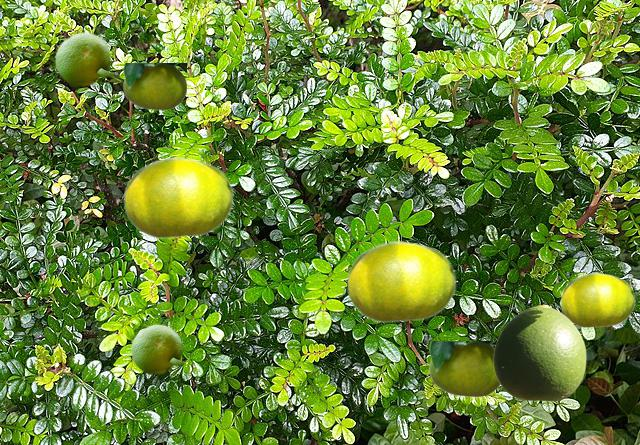dalandan: (123, 156, 232, 238), (346, 240, 455, 322), (493, 305, 585, 400), (560, 272, 634, 327), (429, 341, 500, 396), (54, 31, 114, 86), (123, 63, 185, 109), (130, 323, 185, 374)
